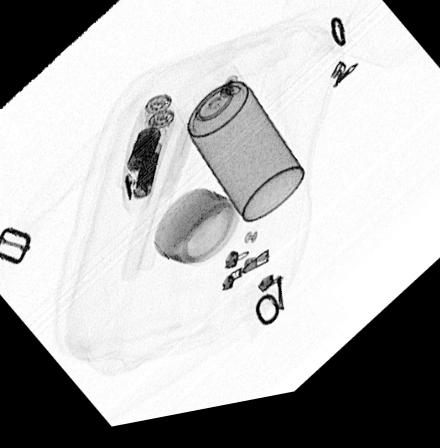Sprayer: (169, 64, 303, 234)
